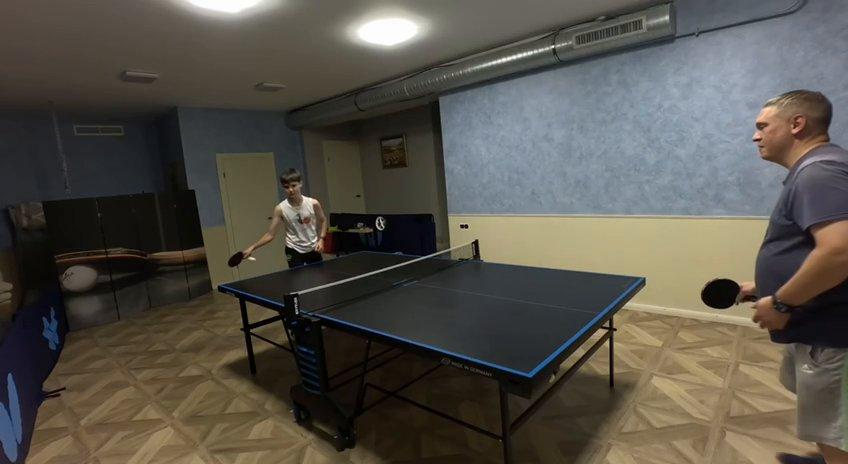Ball: (247, 256, 256, 261)
Net: (283, 240, 481, 321)
Player1: (266, 168, 326, 266)
Player2: (740, 90, 847, 463)
Table: (222, 253, 640, 377)
